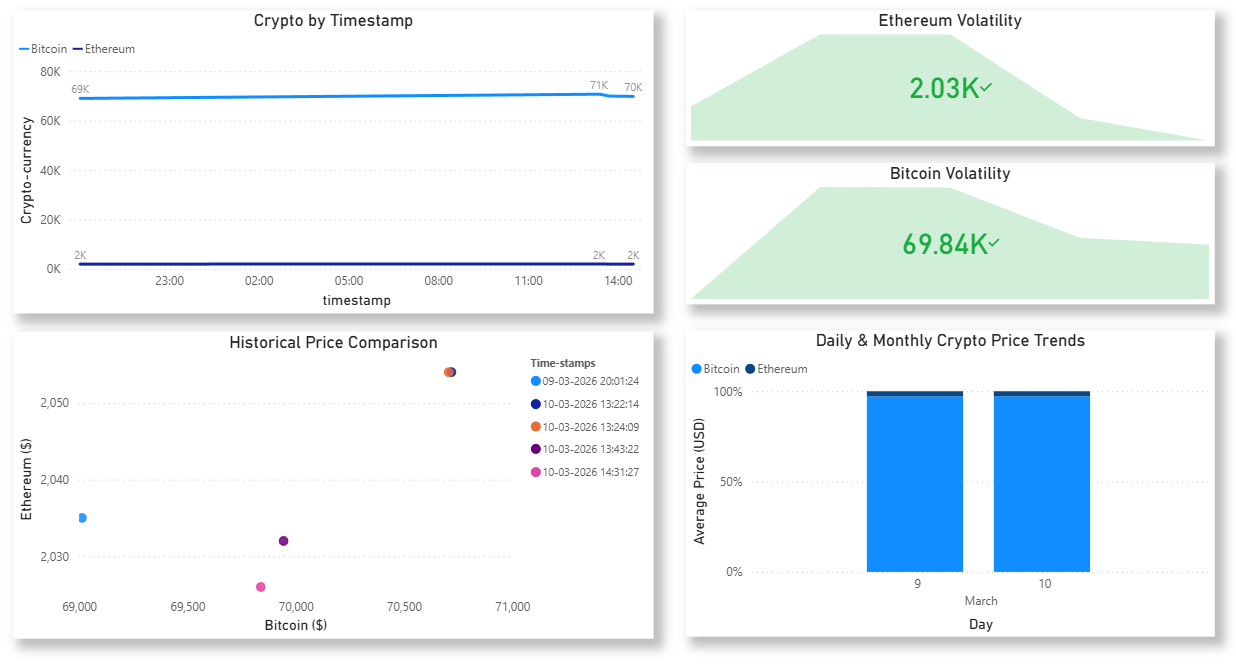

What the dashboard file says about the page in this screenshot:
{"tool":"powerbi","page":{"name":"crypto","canvas":[1280,720],"ordinal":0},"visuals":[{"type":"lineChart","title":"Crypto by Timestamp","fields":{"Y":["Avg(crypto_data_new.bitcoin_usd)","Avg(crypto_data_new.ethereum_usd)"],"Category":["crypto_data_new.timestamp"]},"box":[37.1,15.7,640,302.9],"z":0},{"type":"kpi","title":"Bitcoin Volatility","fields":{"Indicator":["Max(crypto_data_new.bitcoin_usd)"],"TrendLine":["crypto_data_new.timestamp"],"Goal":["Avg(crypto_data_new.bitcoin_usd)1"]},"box":[710,168.6,528.6,141.4],"z":1000},{"type":"hundredPercentStackedColumnChart","title":"Daily & Monthly Crypto Price Trends","fields":{"Y":["Avg(crypto_data_new.bitcoin_usd)","Avg(crypto_data_new.ethereum_usd)"],"Category":["crypto_data_new.timestamp.Variation.Date Hierarchy.Month","crypto_data_new.timestamp.Variation.Date Hierarchy.Day"]},"box":[710,336.7,528.9,306.7],"z":2000},{"type":"kpi","title":"Ethereum Volatility","fields":{"Indicator":["Max(crypto_data_new.ethereum_usd)"],"TrendLine":["crypto_data_new.timestamp"],"Goal":["Avg(crypto_data_new.ethereum_usd)1"]},"box":[710,15.7,528.6,135.7],"z":3000},{"type":"scatterChart","title":"Historical Price Comparison","fields":{"X":["Avg(crypto_data_new.bitcoin_usd)"],"Y":["Avg(crypto_data_new.ethereum_usd)"],"Series":["crypto_data_new.timestamp"]},"box":[37.1,337.1,640,307.1],"z":4000}]}

Visuals, with their boxes on the page's 1280x720 design canvas (x1, y1, x2, y2). These are canvas units, not pixel positions in the 1236x671 screenshot, which may show the page scaled, cropped or inside an application window:
"Crypto by Timestamp" lineChart: left=37, top=16, right=677, bottom=319
"Bitcoin Volatility" kpi: left=710, top=169, right=1239, bottom=310
"Daily & Monthly Crypto Price Trends" hundredPercentStackedColumnChart: left=710, top=337, right=1239, bottom=643
"Ethereum Volatility" kpi: left=710, top=16, right=1239, bottom=151
"Historical Price Comparison" scatterChart: left=37, top=337, right=677, bottom=644
